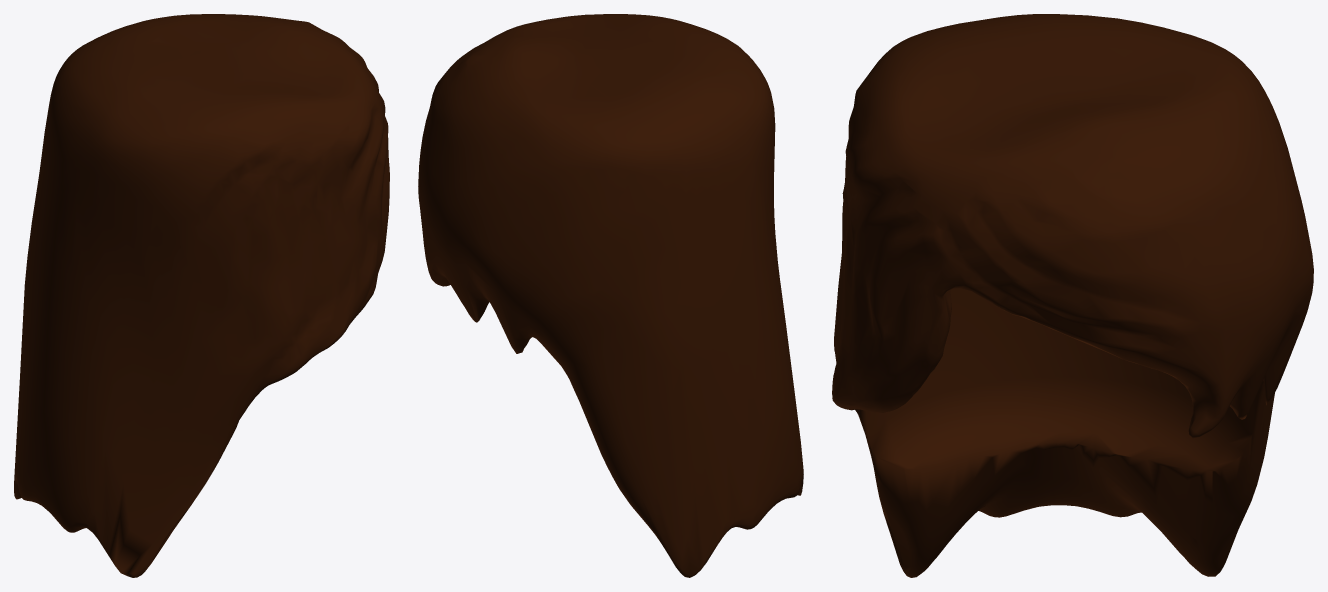
The model's file is girlhair.glb.
3 renders of one model, left to right at view 1: azimuth 30°, elevation 25°; view 2: azimuth 150°, elevation 25°; view 3: azimuth 270°, elevation 25°, orthographic. The views are drawn at different scales.
Visible parts, largest first — view 1: GirlHair; view 2: GirlHair; view 3: GirlHair.
Boxes of the visible parts, <box> form: GirlHair: <box>14,14,389,577</box>; GirlHair: <box>418,14,803,577</box>; GirlHair: <box>832,14,1313,577</box>.
Bounding box in the file's own units: 1.22 × 1.57 × 1.15.
